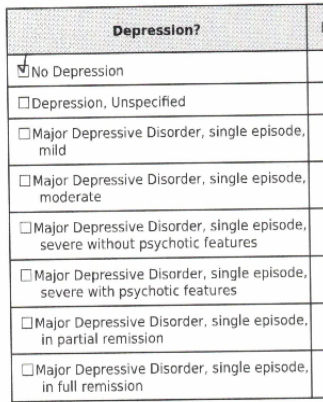checked: (16, 55, 30, 79)
